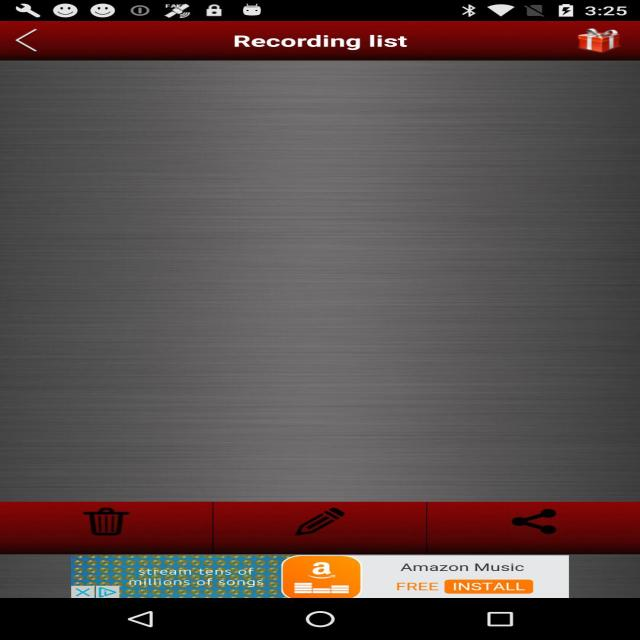button: (9, 500, 635, 547)
